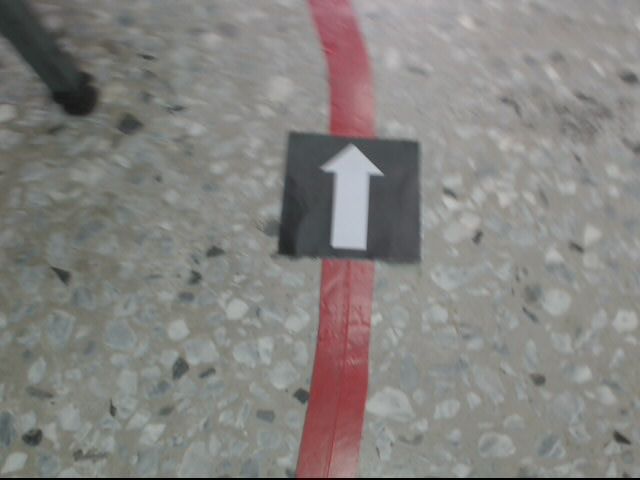straight: (279, 132, 423, 265)
